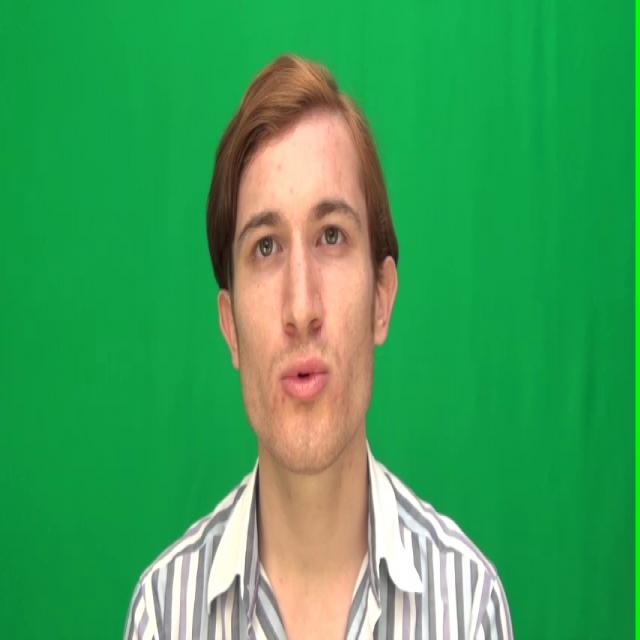Engaged: (221, 99, 376, 464)
